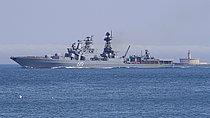MIL_Ship: (10, 31, 174, 69)
